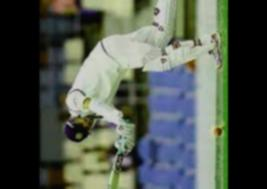batsman: (50, 0, 228, 189)
